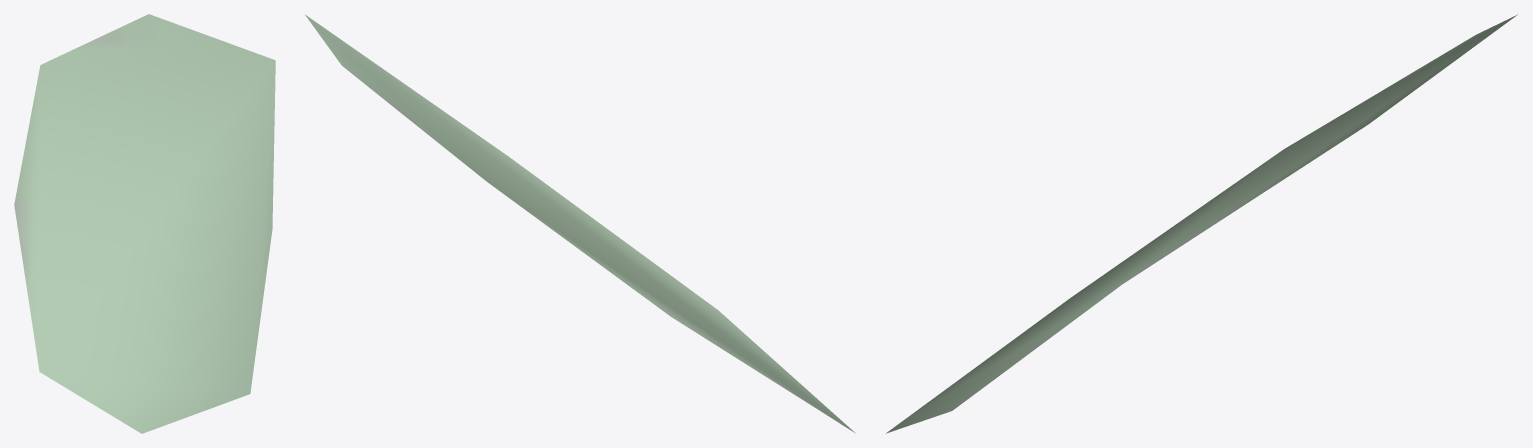
File: TROLLHOLE02_HOLECAP179.fbx
3 renders of one model, left to right at view 1: azimuth 30°, elevation 25°; view 2: azimuth 150°, elevation 25°; view 3: azimuth 270°, elevation 25°, orthographic. The views are drawn at different scales.
Parts seen in each view (by area): view 1: TROLLHOLE02_HOLECAP179; view 2: TROLLHOLE02_HOLECAP179; view 3: TROLLHOLE02_HOLECAP179.
Part boxes in pixels (box(x1,y1,x2,y2)): TROLLHOLE02_HOLECAP179: box(14, 14, 275, 433); TROLLHOLE02_HOLECAP179: box(305, 14, 855, 433); TROLLHOLE02_HOLECAP179: box(886, 14, 1517, 433).
Size of the model in its own units: 34005 by 32286 by 36344.
Materials: 1 (1 with a texture image).
